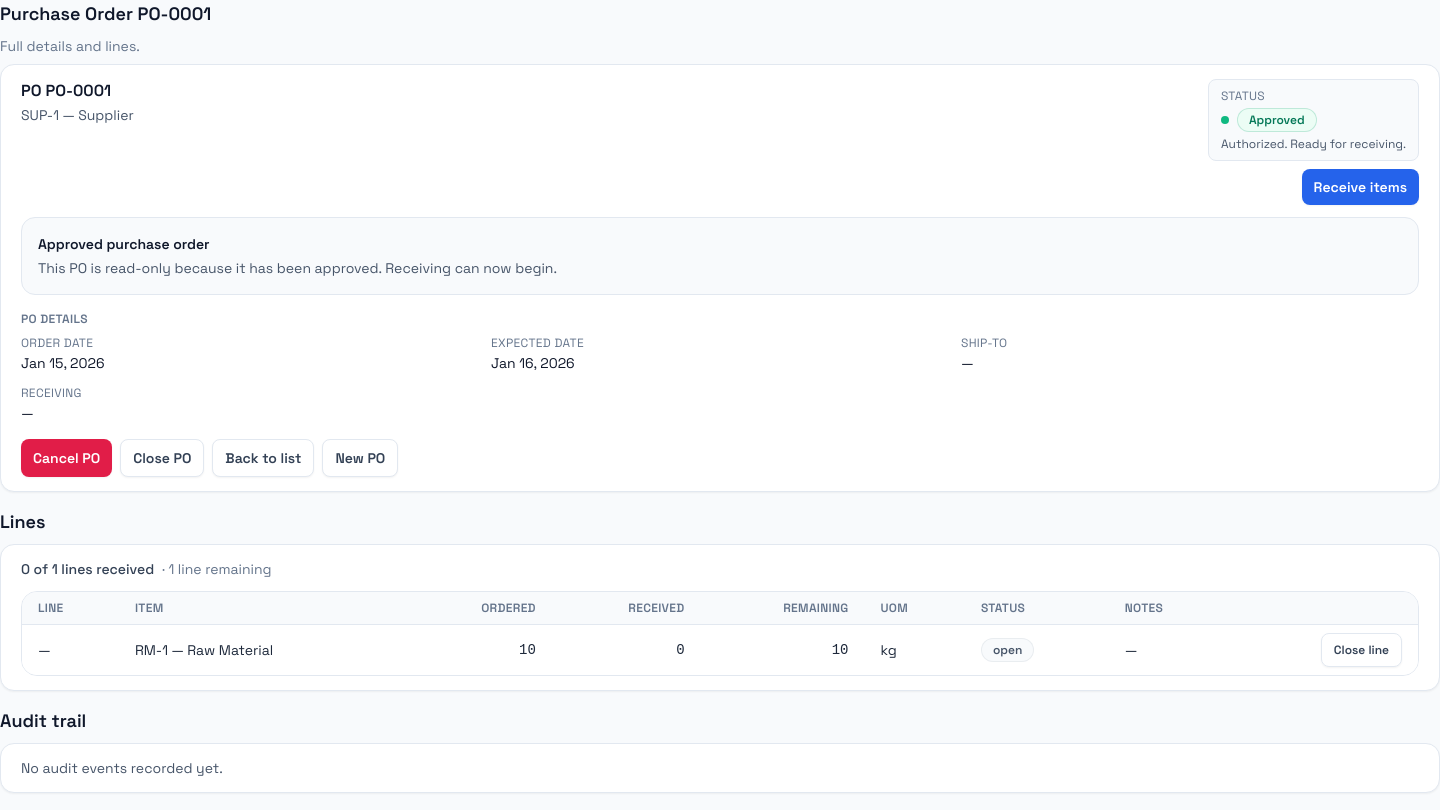
Test: PurchaseOrderDetailPage › surfaces backend close conflicts
Click the button "Close PO".
click(162, 458)  # box [120,439,204,477]
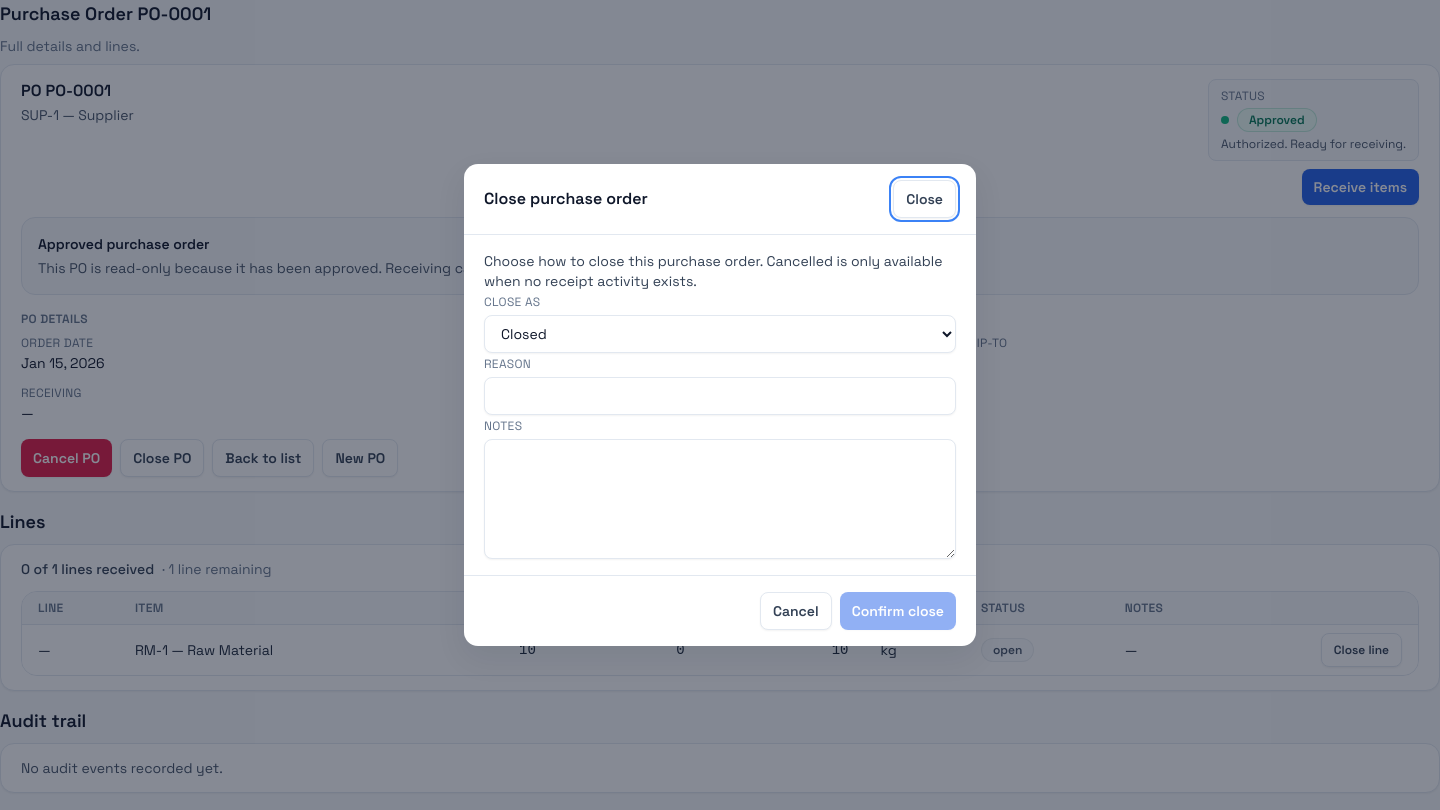
Type "Duplicate close attempt" into the field labelled "Reason".
click(720, 396); type("Duplicate close attempt")  # box [484,377,956,415]
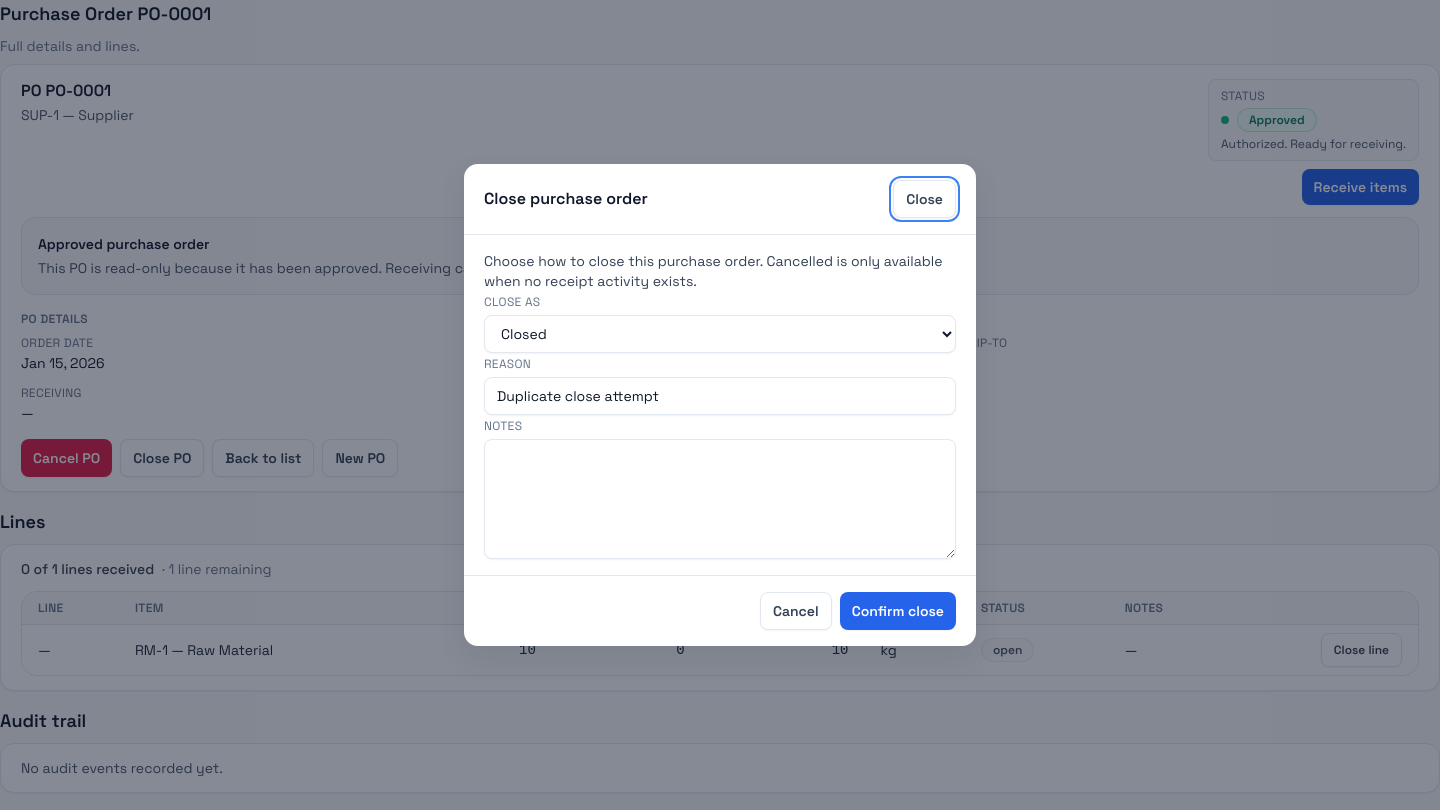
Click the button "Confirm close".
click(898, 611)  # box [840,592,956,630]
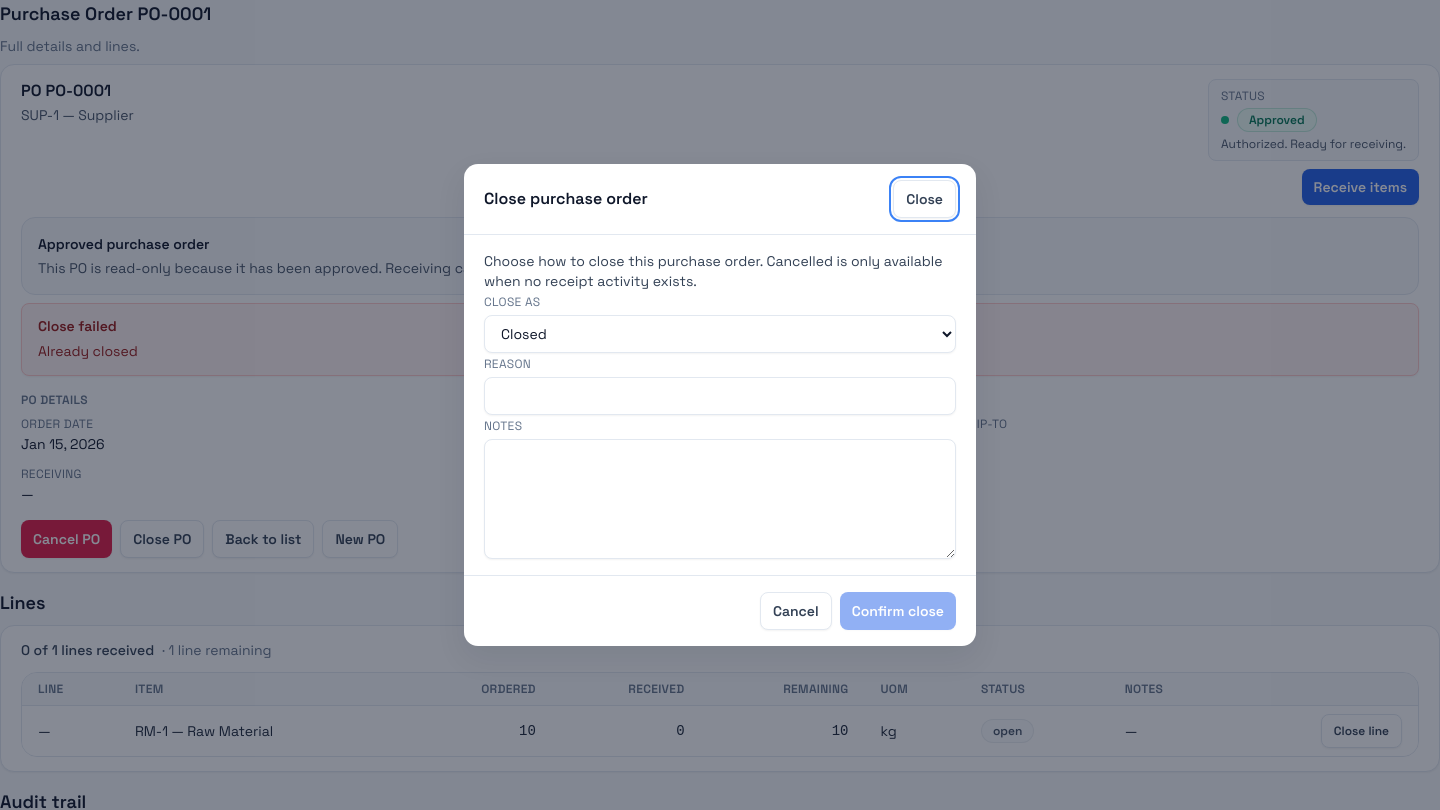
Check: the text "Already closed" is shown, box [38,342,138,360]
